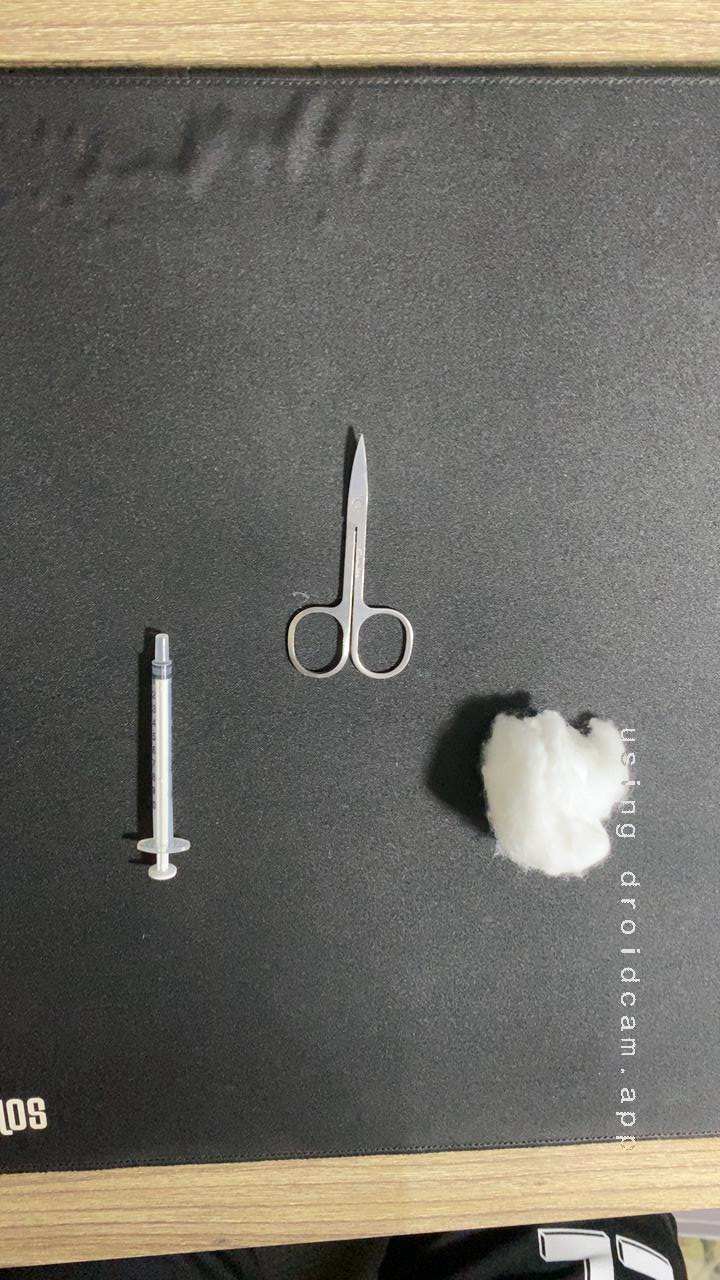cotton: (450, 694, 651, 897)
scissor: (268, 415, 433, 688)
syringe: (110, 621, 210, 895)
